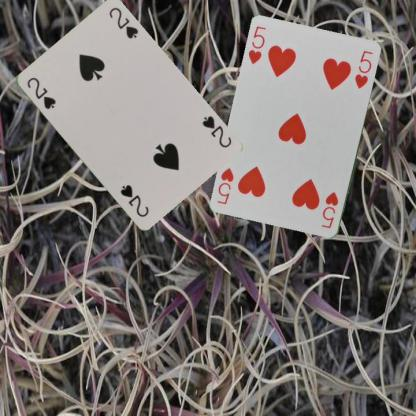2s: (23, 74, 57, 111), (199, 113, 232, 149)
5h: (245, 24, 268, 66), (319, 189, 340, 230)
